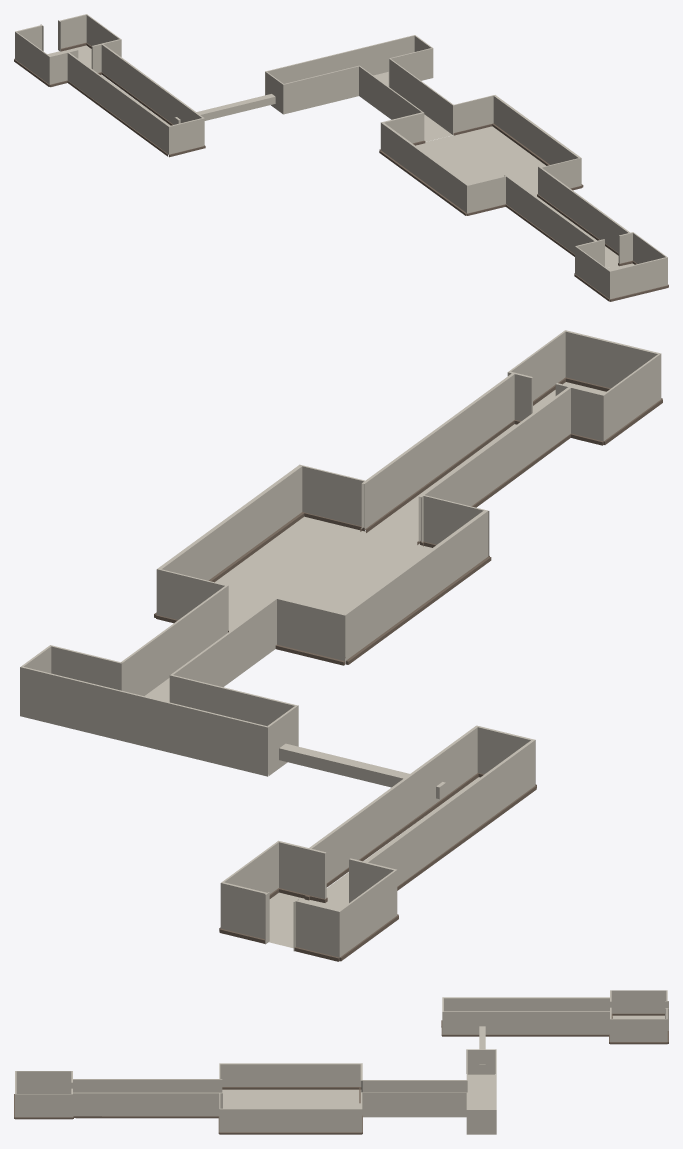
Rendered from TUTORIAL_TWO.fbx.
3 views of the same model, one above another, from view 1: azimuth 30°, elevation 25°; view 2: azimuth 150°, elevation 25°; view 3: azimuth 270°, elevation 25° (orthographic). The views are drawn at different scales.
Visible parts, largest first — view 1: polySurface560, polySurface587, polySurface562, polySurface549, polySurface579, polySurface522, polySurface558, polySurface561, polySurface551, polySurface554, polySurface535, polySurface557 (+16 smaller); view 2: polySurface549, polySurface560, polySurface522, polySurface579, polySurface562, polySurface587, polySurface558, polySurface561, polySurface554, polySurface586, polySurface557, polySurface567 (+18 smaller); view 3: polySurface579, polySurface522, polySurface561, polySurface562, polySurface560, polySurface554, polySurface587, polySurface558, polySurface538, polySurface582, polySurface583, polySurface557 (+4 smaller).
Boxes of the visible parts, x1=… form: polySurface560: x1=416, y1=126, x2=545, y2=197; polySurface587: x1=67, y1=52, x2=169, y2=156; polySurface562: x1=379, y1=122, x2=468, y2=215; polySurface549: x1=265, y1=35, x2=414, y2=94; polySurface579: x1=101, y1=43, x2=203, y2=125; polySurface522: x1=537, y1=166, x2=632, y2=263; polySurface558: x1=504, y1=175, x2=595, y2=256; polySurface561: x1=492, y1=95, x2=583, y2=187; polySurface551: x1=283, y1=65, x2=358, y2=114; polySurface554: x1=389, y1=58, x2=453, y2=134; polySurface535: x1=610, y1=257, x2=668, y2=301; polySurface557: x1=359, y1=65, x2=422, y2=119; polySurface549: x1=20, y1=666, x2=267, y2=776; polySurface560: x1=215, y1=516, x2=431, y2=660; polySurface522: x1=360, y1=373, x2=514, y2=533; polySurface579: x1=304, y1=726, x2=478, y2=900; polySurface562: x1=343, y1=510, x2=491, y2=664; polySurface587: x1=365, y1=739, x2=536, y2=890; polySurface558: x1=417, y1=387, x2=570, y2=546; polySurface561: x1=154, y1=465, x2=304, y2=617; polySurface554: x1=121, y1=586, x2=227, y2=695; polySurface586: x1=219, y1=882, x2=339, y2=961; polySurface557: x1=170, y1=598, x2=276, y2=687; polySurface567: x1=275, y1=597, x2=345, y2=665; polySurface579: x1=443, y1=1011, x2=609, y2=1036; polySurface522: x1=73, y1=1092, x2=222, y2=1118; polySurface561: x1=219, y1=1108, x2=362, y2=1134; polySurface562: x1=220, y1=1063, x2=361, y2=1089; polySurface560: x1=222, y1=1089, x2=361, y2=1108; polySurface554: x1=362, y1=1092, x2=466, y2=1117; polySurface587: x1=442, y1=997, x2=611, y2=1011; polySurface558: x1=72, y1=1079, x2=222, y2=1092; polySurface538: x1=15, y1=1094, x2=72, y2=1119; polySurface582: x1=610, y1=1019, x2=667, y2=1044; polySurface583: x1=611, y1=990, x2=666, y2=1015; polySurface557: x1=361, y1=1080, x2=467, y2=1092.
Size of the model in its own units: 9.17 by 0.8763 by 21.11.
